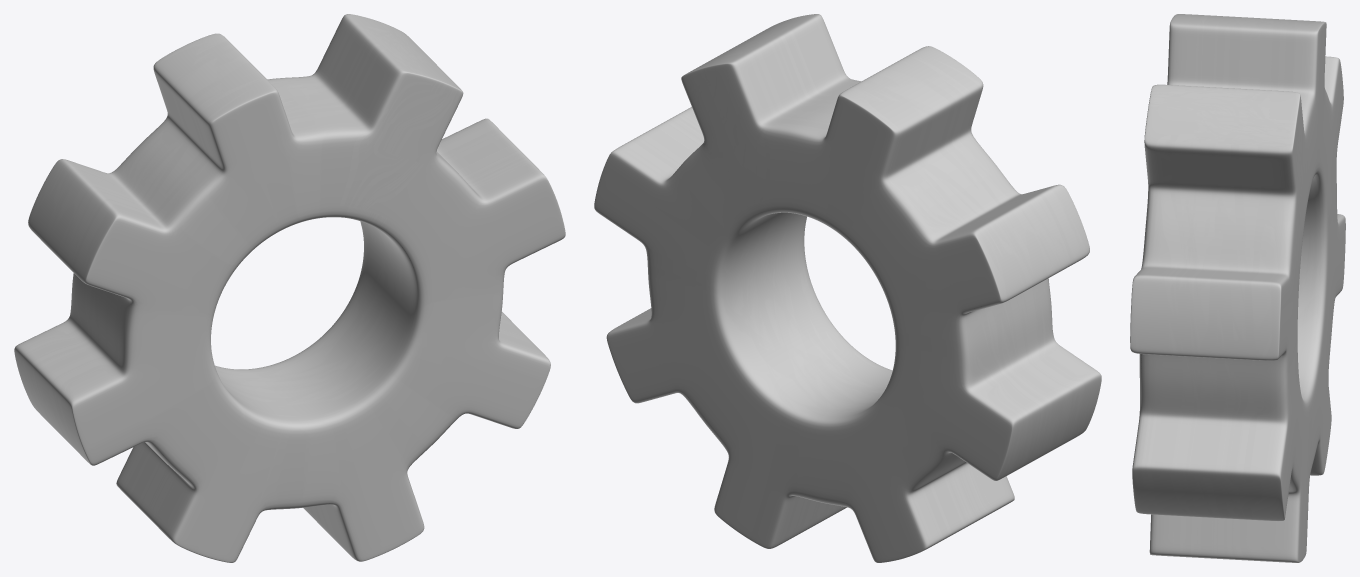
Rendered from gear.glb.
3 views of the same model, side by side, from view 1: azimuth 30°, elevation 25°; view 2: azimuth 150°, elevation 25°; view 3: azimuth 270°, elevation 25° (orthographic).
Visible parts, largest first — view 1: Cylinder_Material.001_0; view 2: Cylinder_Material.001_0; view 3: Cylinder_Material.001_0.
Part boxes in pixels (left/top/right/bottom): Cylinder_Material.001_0: left=14, top=14, right=565, bottom=562; Cylinder_Material.001_0: left=594, top=14, right=1101, bottom=562; Cylinder_Material.001_0: left=1130, top=14, right=1345, bottom=562.
Size of the model in its own units: 1.62 by 1.58 by 0.6378.
Materials: 1 (1 with a texture image).
